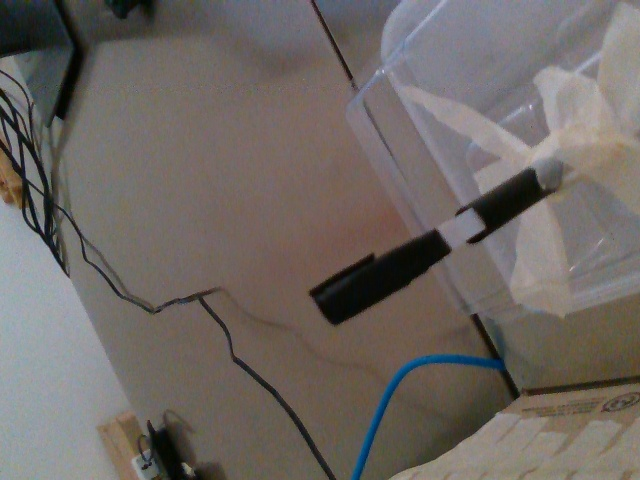test_strip: (308, 207, 482, 327)
